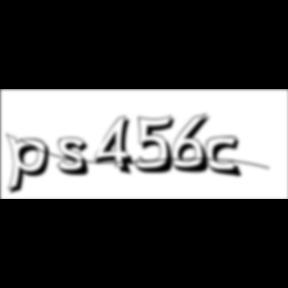4: (94, 115, 140, 179)
5: (134, 114, 180, 176)
6: (172, 112, 216, 176)
c: (207, 136, 247, 180)
p: (6, 132, 56, 198)
s: (58, 137, 96, 179)
